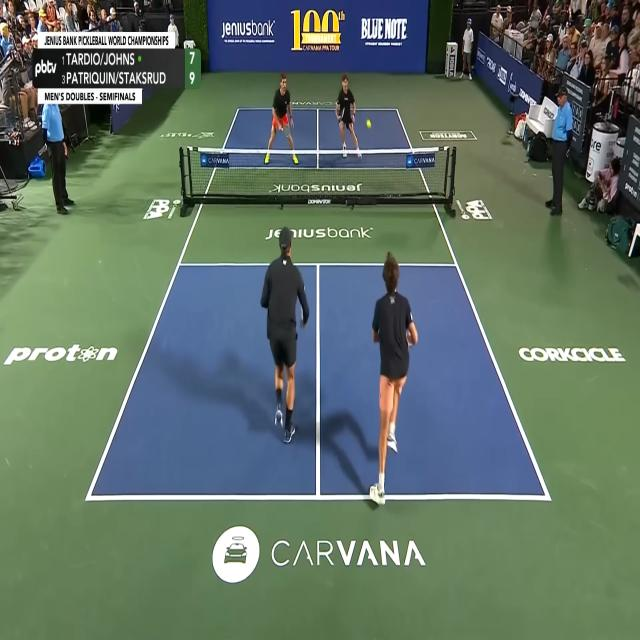ball: (366, 118, 372, 129)
